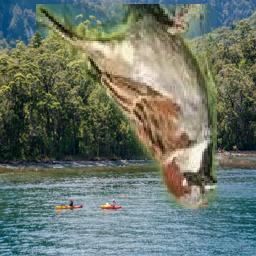Sparrow: (37, 5, 218, 210)
